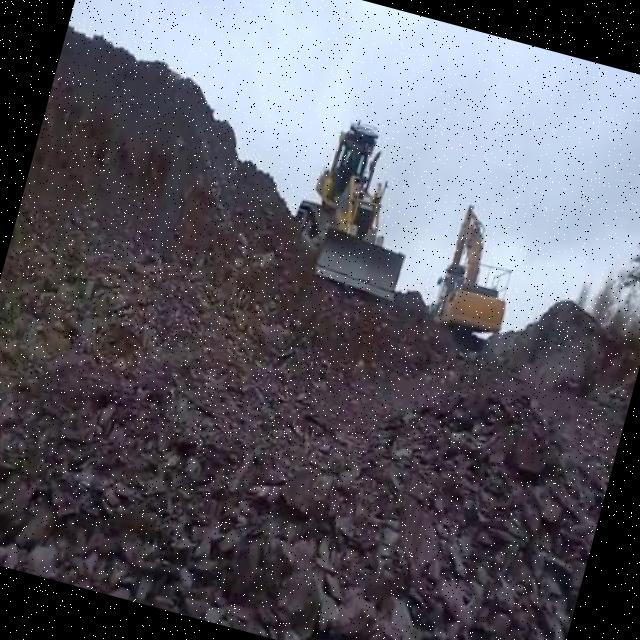Bulldozer: (280, 110, 438, 306)
Excavator: (428, 205, 525, 342)
